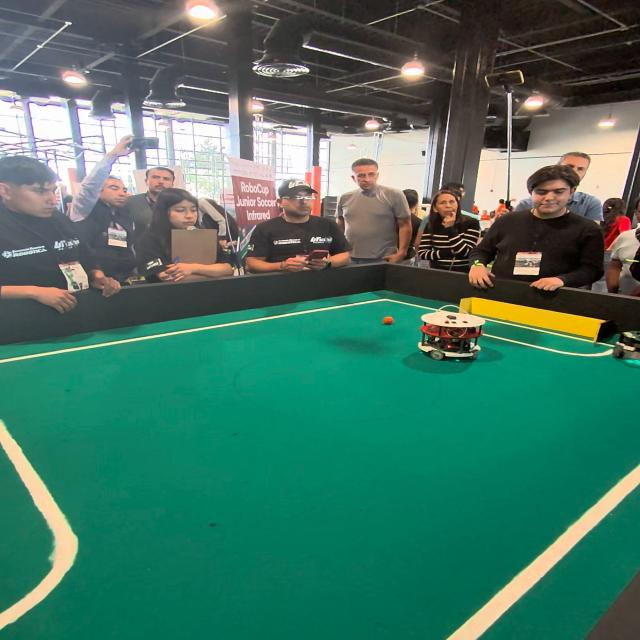Robot: (415, 302, 483, 371), (610, 324, 640, 368)
pelota: (381, 314, 395, 330)
